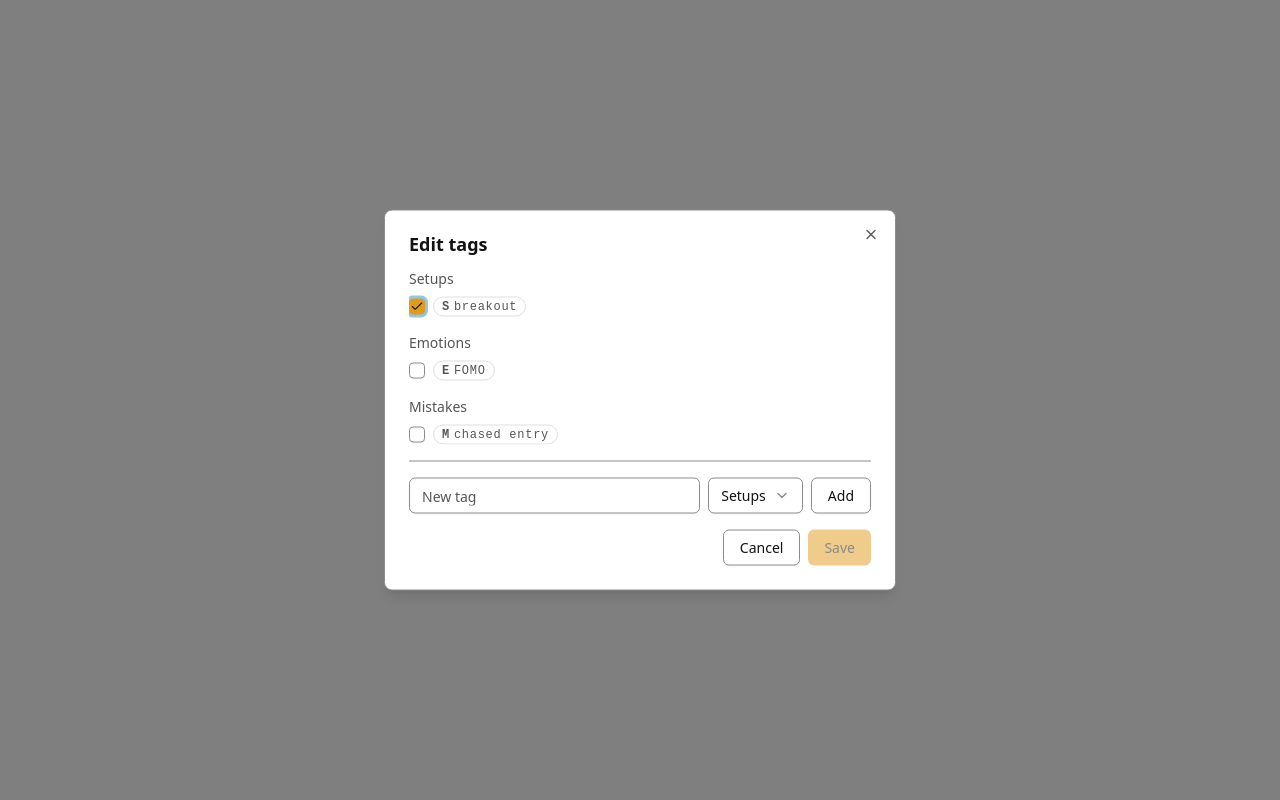
Test: TagPicker › softens a NOT_FOUND on the PUT into the reopen-to-refresh message
Click the checkbox named "FOMO". click: click(417, 370)
box: 409,362 -> 425,378
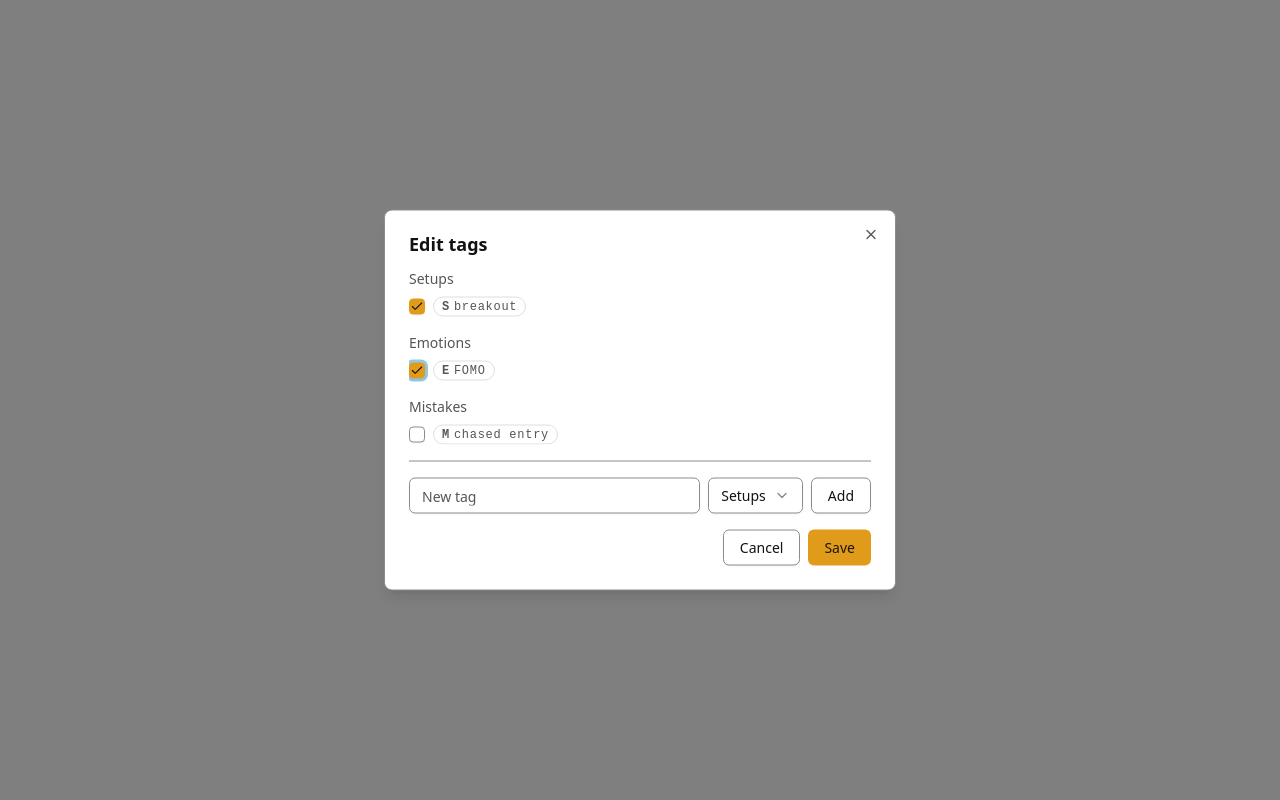
Click the button "Save". click: click(840, 548)
box: 808,530 -> 871,566
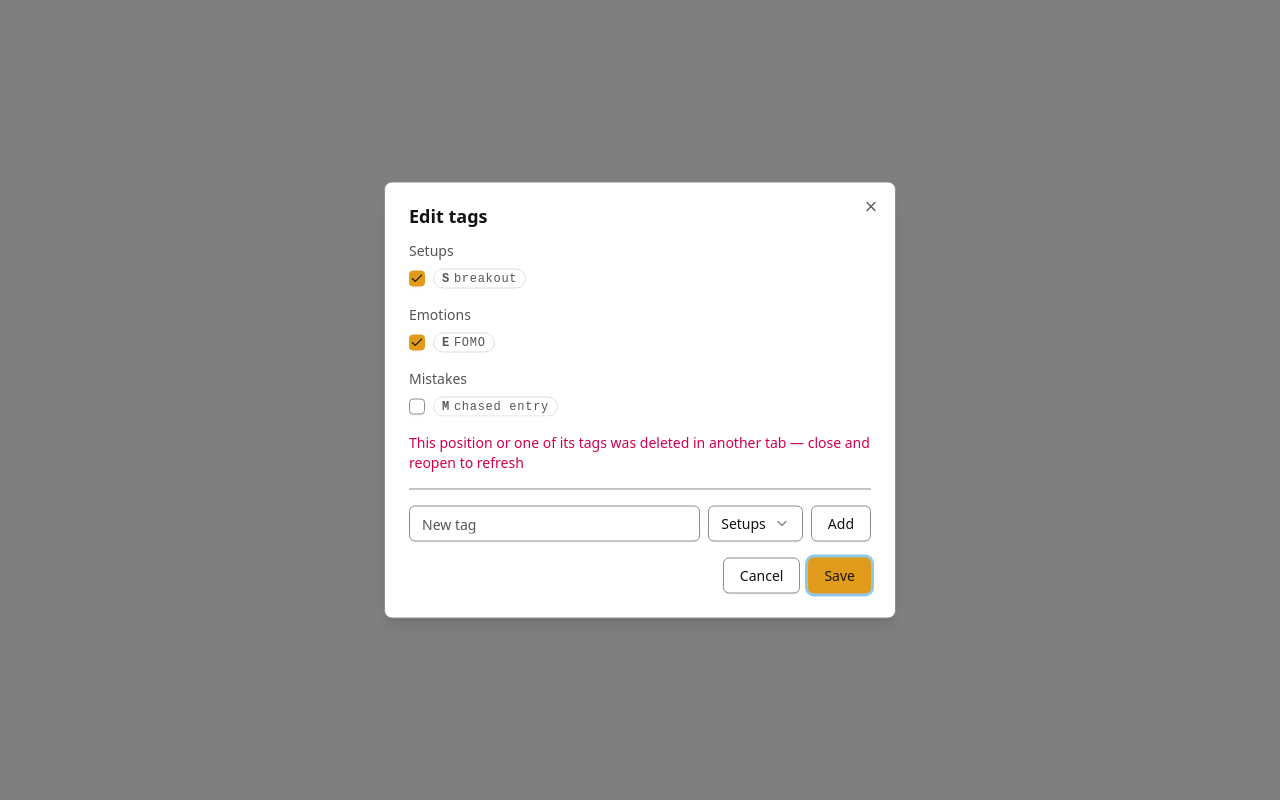
Expected: the text "This position or one of its tags was deleted in another tab — close and reopen to refresh" is shown, 409,432 -> 870,472
